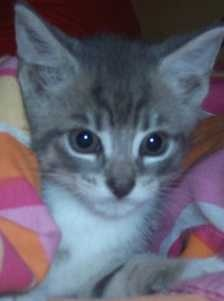Cat: (15, 1, 223, 295)
